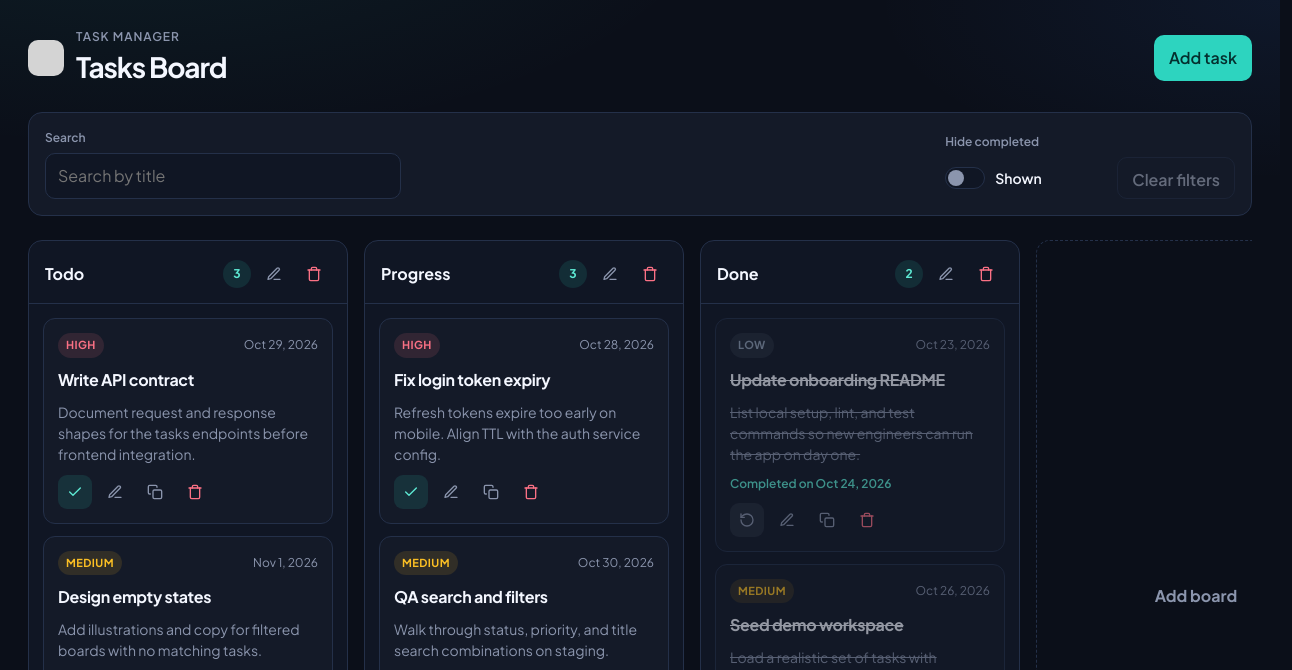
Scenario: App › marks a task completed in place and can hide it
Check: the element "Write API contract" is shown, box 43,318 -> 333,524
Step 1. Click the button named "Mark completed" below "Write API contract" → (75, 492), box 58,474 -> 92,508
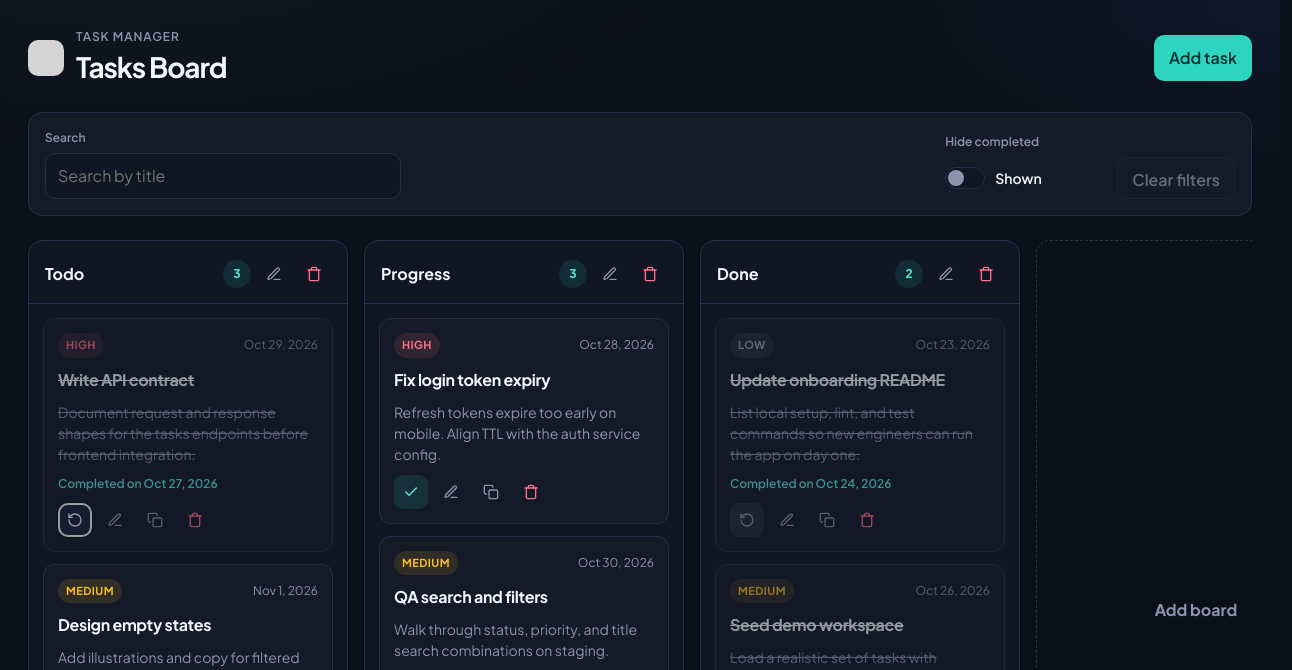
Check: the heading "Write API contract" is shown, box 58,368 -> 194,390
Check: the text "Completed on Oct 27, 2026" is shown, box 58,476 -> 218,490
Check: the button named "Mark incomplete" below "Write API contract" is shown, box 58,502 -> 92,536
Step 2. Click the switch named "Hide completed" → (1025, 178), box 945,157 -> 1105,199
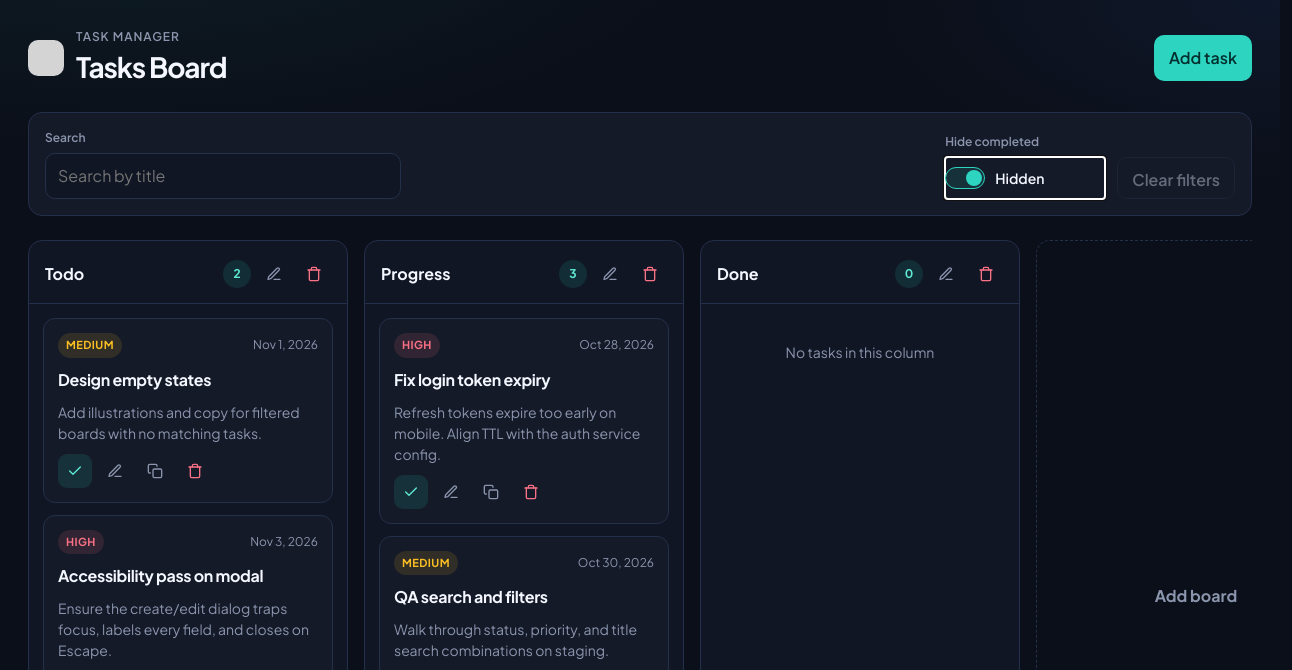
Check: the heading "Write API contract" is gone
Check: the heading "Update onboarding README" is gone
